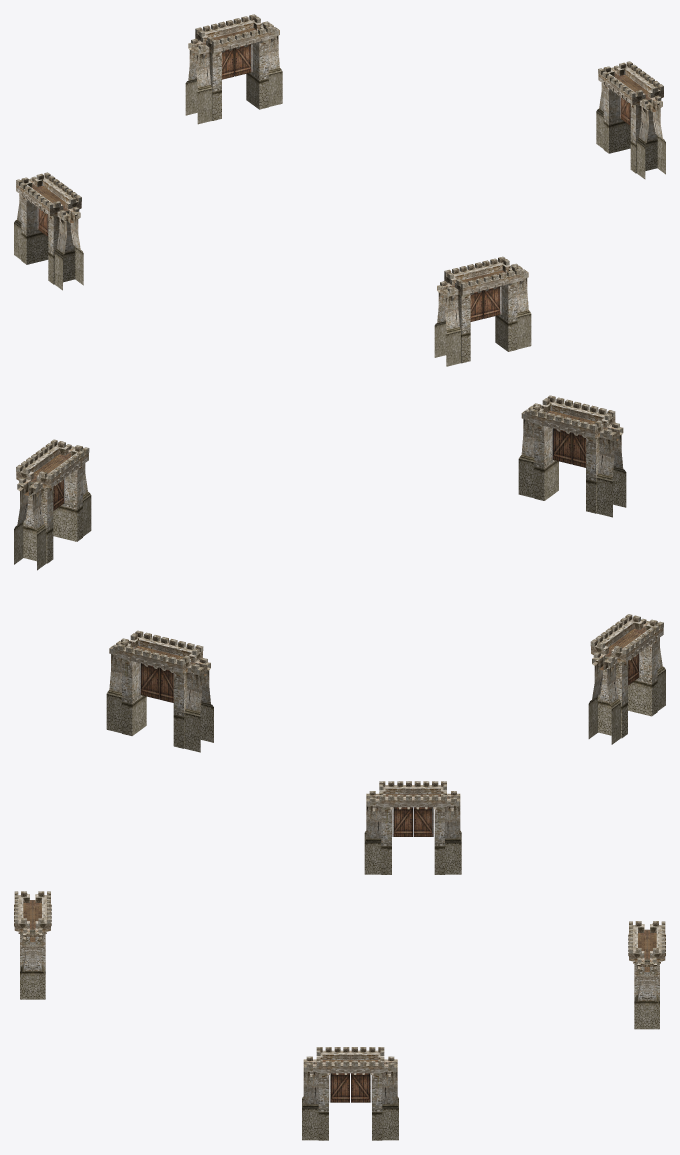
File: campaign_curtainwallgates_hele.dae
3 views of the same model, one above another, from view 1: azimuth 30°, elevation 25°; view 2: azimuth 150°, elevation 25°; view 3: azimuth 270°, elevation 25° (orthographic). The views are drawn at different scales.
Visible parts, largest first — view 1: rome_gate019; view 2: rome_gate019; view 3: rome_gate019.
Boxes of the visible parts, x1,y1,x2,y2 form: rome_gate019: [14, 14, 665, 366]; rome_gate019: [14, 395, 665, 752]; rome_gate019: [14, 781, 665, 1140].
Bounding box in the file's own units: 44.14 × 5.9 × 43.19.
